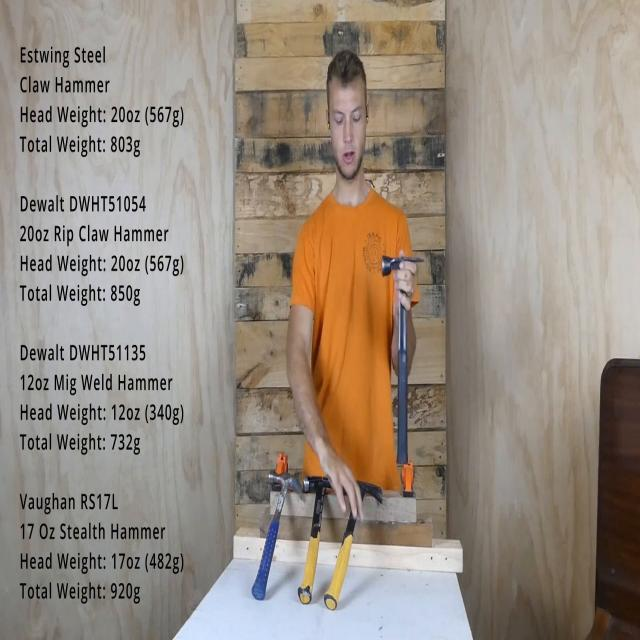hammer: (382, 256, 424, 464), (323, 480, 382, 610), (252, 474, 304, 600), (298, 476, 340, 604)
